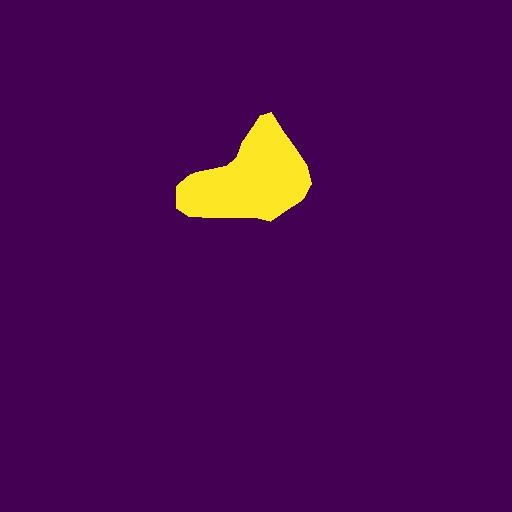Gliomia_tumour: (176, 112, 312, 222)
